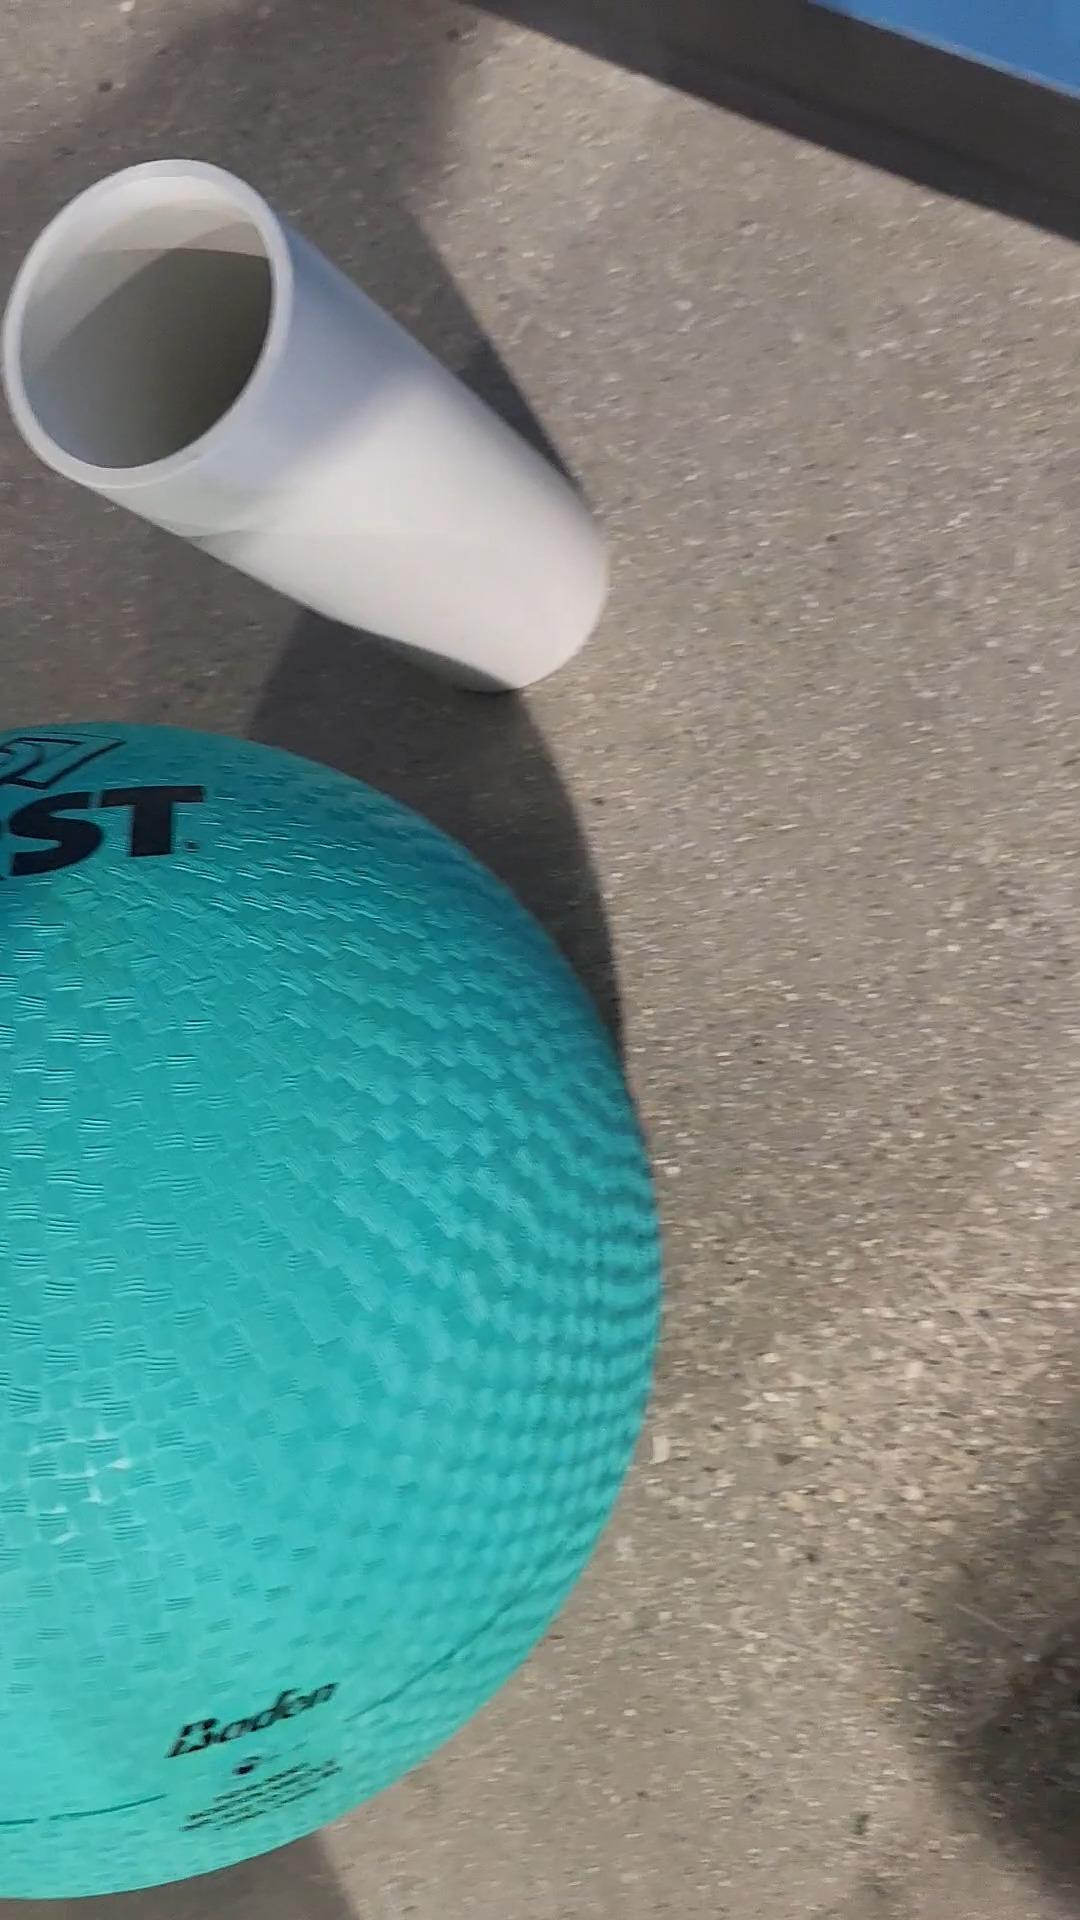algae: (0, 703, 670, 1920)
coral: (0, 154, 617, 713)
